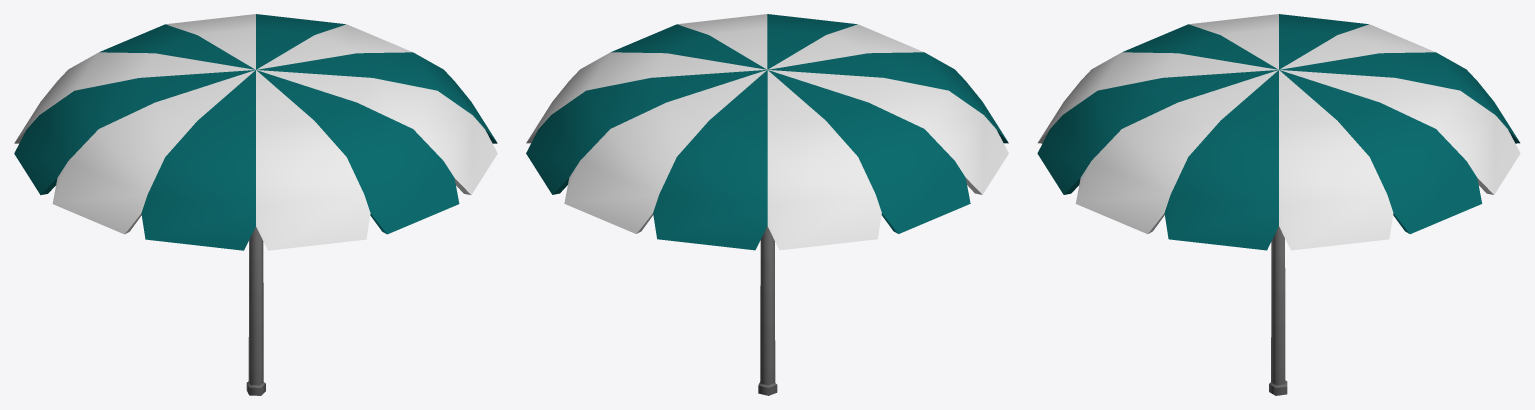
File: Parasol_1_D.fbx
The picture shows the model from 3 angles, left to right: view 1: azimuth 30°, elevation 25°; view 2: azimuth 150°, elevation 25°; view 3: azimuth 270°, elevation 25°; orthographic projection.
Visible parts, largest first — view 1: Parasol_1_D; view 2: Parasol_1_D; view 3: Parasol_1_D.
Boxes of the visible parts, x1,y1,x2,y2 form: Parasol_1_D: [14, 14, 497, 395]; Parasol_1_D: [526, 14, 1008, 395]; Parasol_1_D: [1037, 14, 1520, 395].
Bounding box in the file's own units: 222 × 163 × 222.
